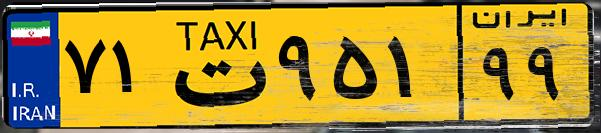1: (385, 28, 445, 110), (110, 28, 158, 98)
5: (330, 28, 385, 110)
7: (57, 26, 110, 100)
9: (270, 28, 330, 110), (475, 38, 525, 113), (525, 38, 570, 115)
ت: (158, 12, 270, 120)
